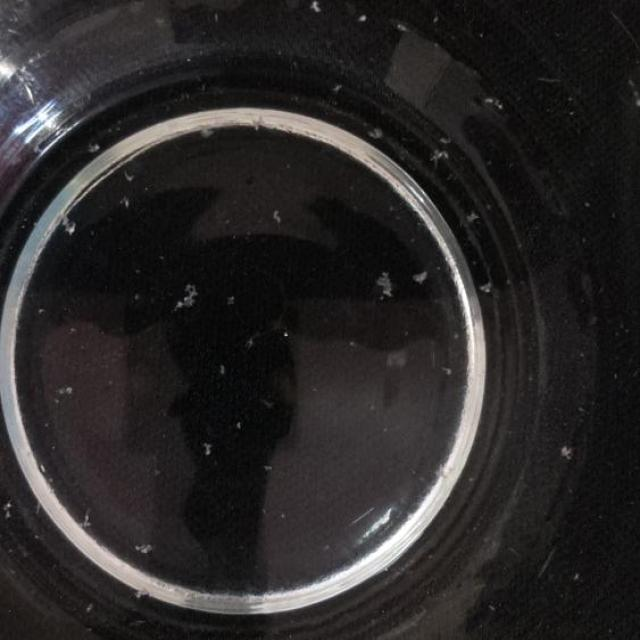fiber: (177, 276, 201, 312), (375, 264, 397, 298), (60, 208, 81, 241), (558, 435, 579, 466), (0, 495, 23, 522), (480, 90, 506, 112), (132, 537, 158, 558), (432, 145, 455, 167), (52, 381, 71, 405), (410, 268, 432, 288), (352, 8, 374, 27), (76, 508, 95, 530), (109, 196, 143, 208), (271, 200, 284, 230), (464, 207, 486, 224), (195, 440, 218, 456), (194, 128, 224, 140), (476, 279, 495, 297), (85, 136, 100, 158), (308, 0, 325, 17), (82, 595, 95, 616), (367, 124, 384, 140), (278, 327, 292, 345), (222, 288, 236, 304), (213, 365, 228, 378), (264, 462, 275, 476)
